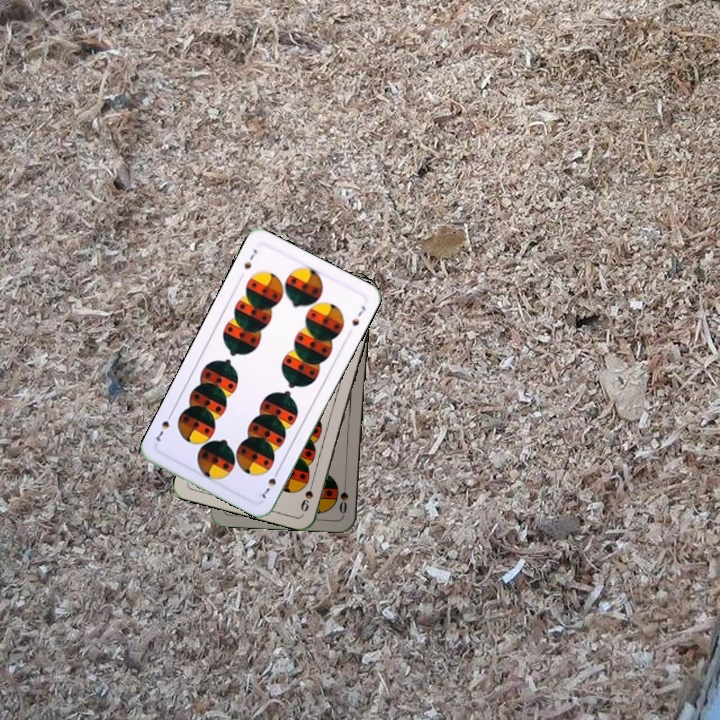S7: (255, 465, 282, 501), (240, 245, 260, 272)
S9: (297, 475, 317, 515)
SO: (335, 476, 350, 516)
